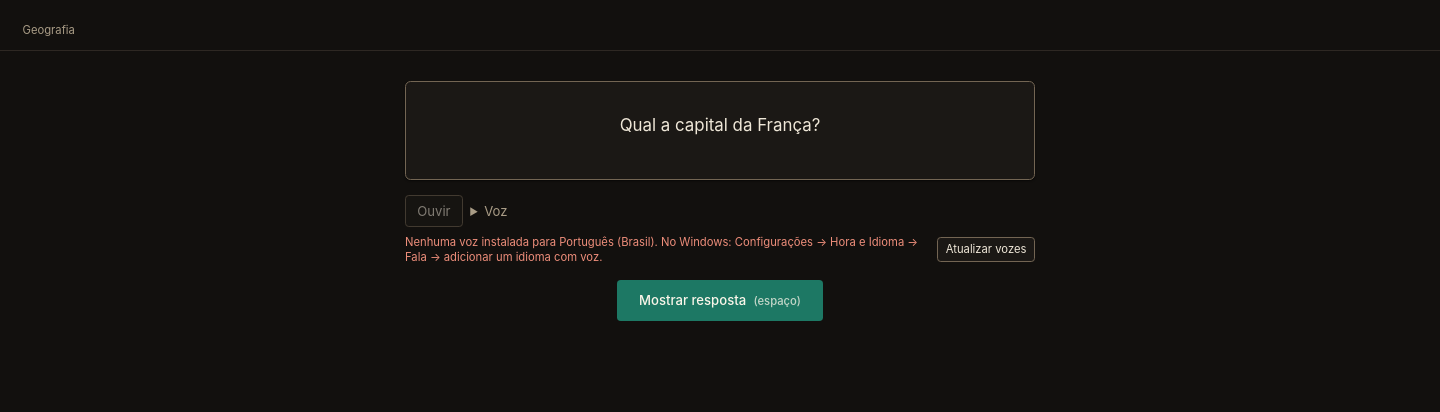
Test: EstudoSessao — resumo da sessão › falha ao buscar o resumo não quebra a tela de fila vazia
Expected: the text "Qual a capital da França?" is shown, [620, 114, 820, 134]
Click the button "Mostrar resposta (espaço)".
click(720, 300)  # box [617, 280, 823, 321]
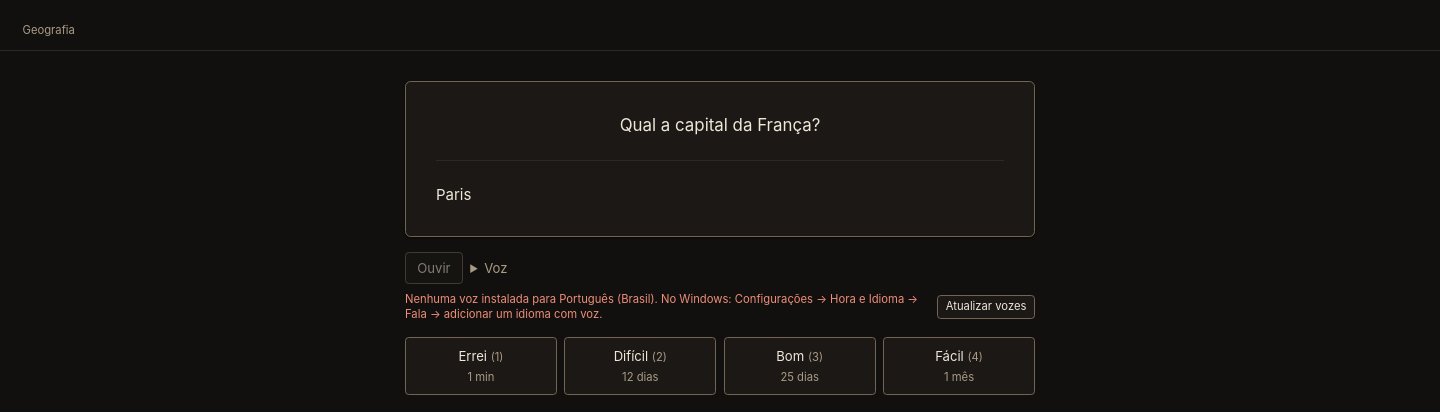
Click the button "Bom (3) 25 dias".
click(800, 366)  # box [724, 337, 876, 395]
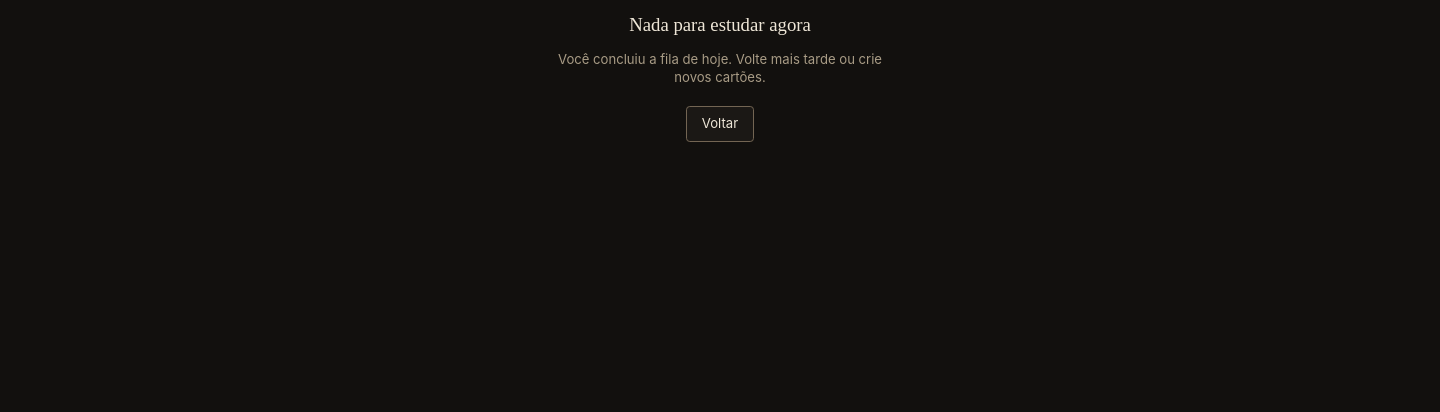
Expected: the heading "Nada para estudar agora" is shown, [629, 12, 811, 38]
